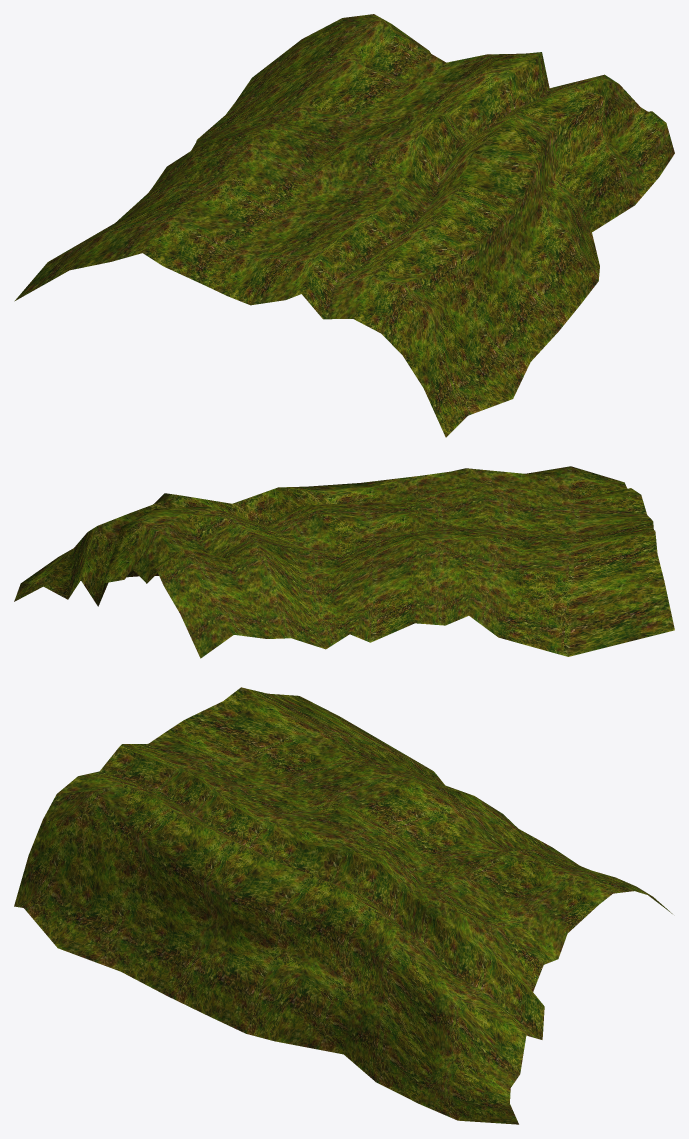
The model's file is TROLLHOLE02_ZOBJECT01.fbx.
The picture shows the model from 3 angles, top to bottom: view 1: azimuth 30°, elevation 25°; view 2: azimuth 150°, elevation 25°; view 3: azimuth 270°, elevation 25°; orthographic projection. The views are drawn at different scales.
Parts seen in each view (by area): view 1: TROLLHOLE02_ZOBJECT01; view 2: TROLLHOLE02_ZOBJECT01; view 3: TROLLHOLE02_ZOBJECT01.
Part boxes in pixels (<box>): TROLLHOLE02_ZOBJECT01: <box>14,14,674,437</box>; TROLLHOLE02_ZOBJECT01: <box>14,466,674,658</box>; TROLLHOLE02_ZOBJECT01: <box>14,687,672,1124</box>.
Size of the model in its own units: 483529 by 91916 by 399192.
Materials: 1 (1 with a texture image).
